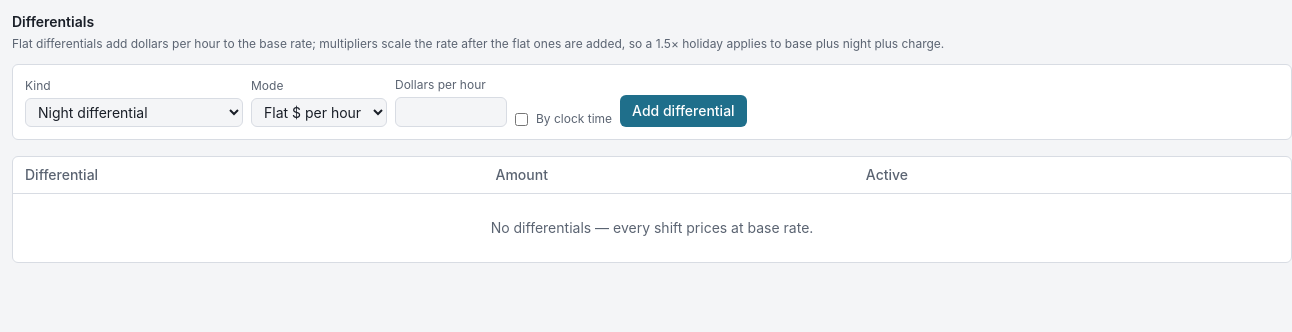
Scenario: clock-time differentials in Settings › Pay › asks for a window when adding an evening differential without one
The image size is (1292, 332).
Select "Evening differential" in the dropdown with test id "differential-kind" at (134, 112), box top-left (25, 98), bottom-right (243, 127)
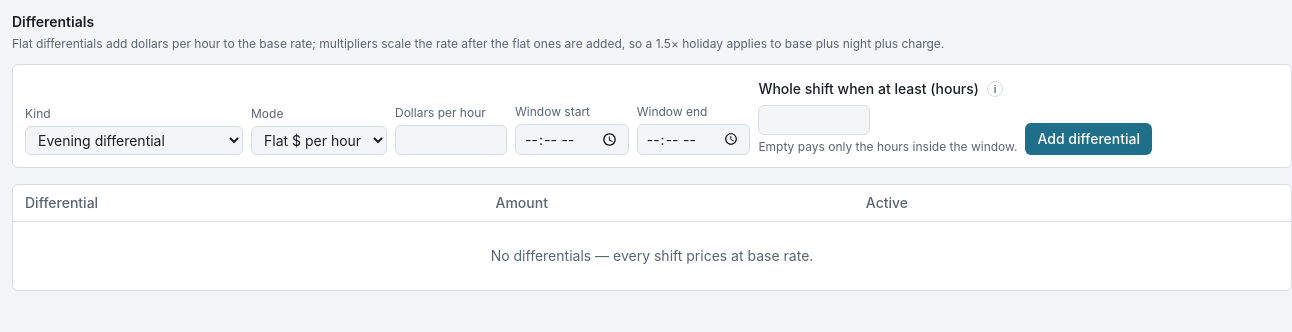
Type "2" into the number field with test id "differential-amount".
click(451, 140); type("2")  # box top-left (395, 125), bottom-right (507, 155)
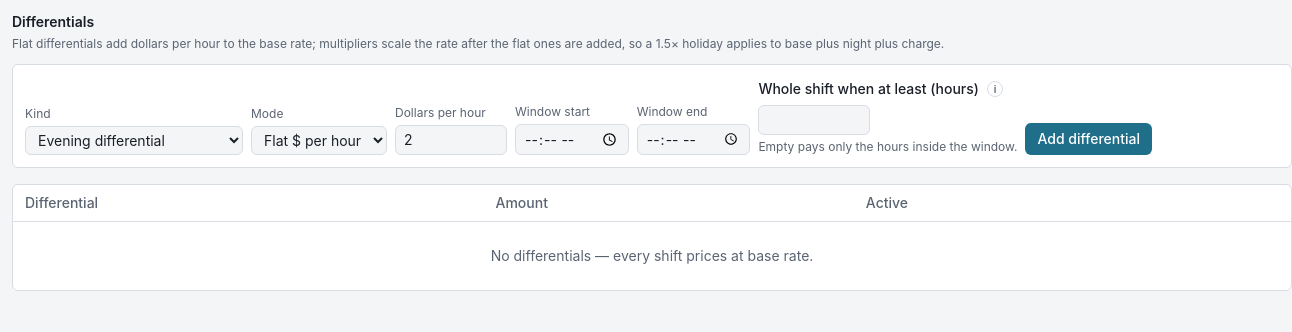
Type "15:00" into the time field labelled "Window start".
click(572, 140); type("15:00")  # box top-left (515, 124), bottom-right (629, 155)
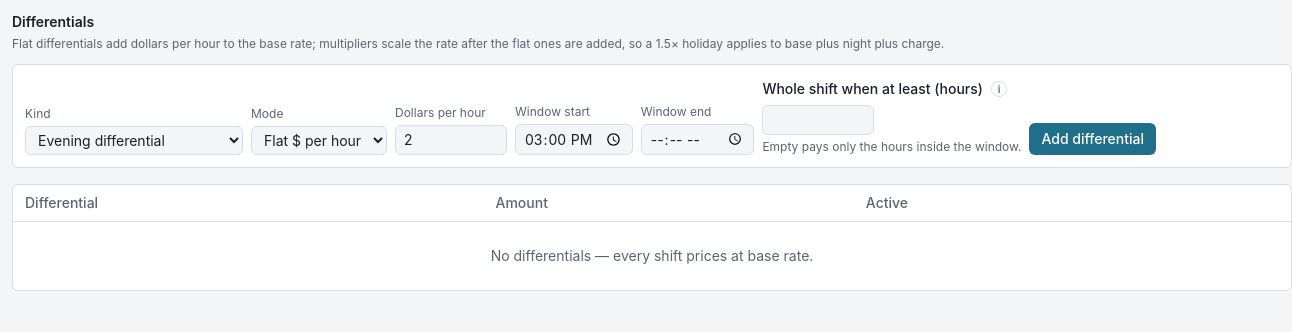
// The end time is left empty: the browser's own required check is bypassed by submitting.
Submit the form named "Add differential", box top-left (12, 64), bottom-right (1291, 168)
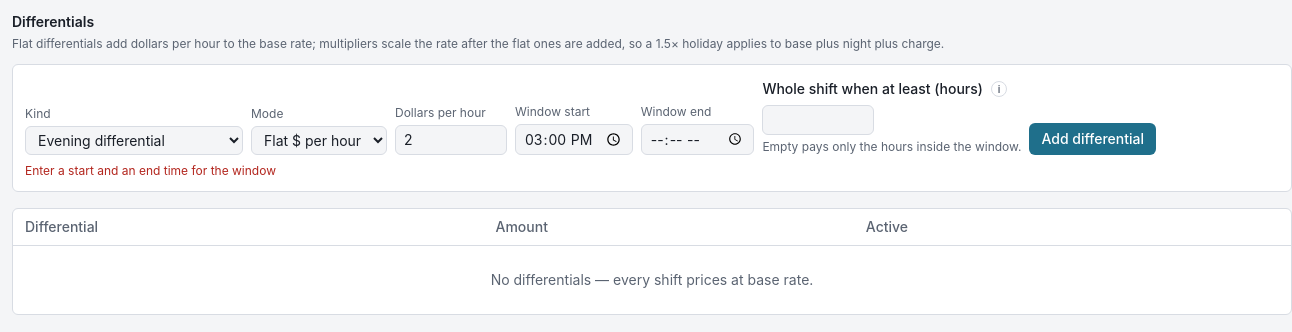
Expected: the text "Enter a start and an end time for the window" is shown, top-left (25, 163), bottom-right (276, 179)
